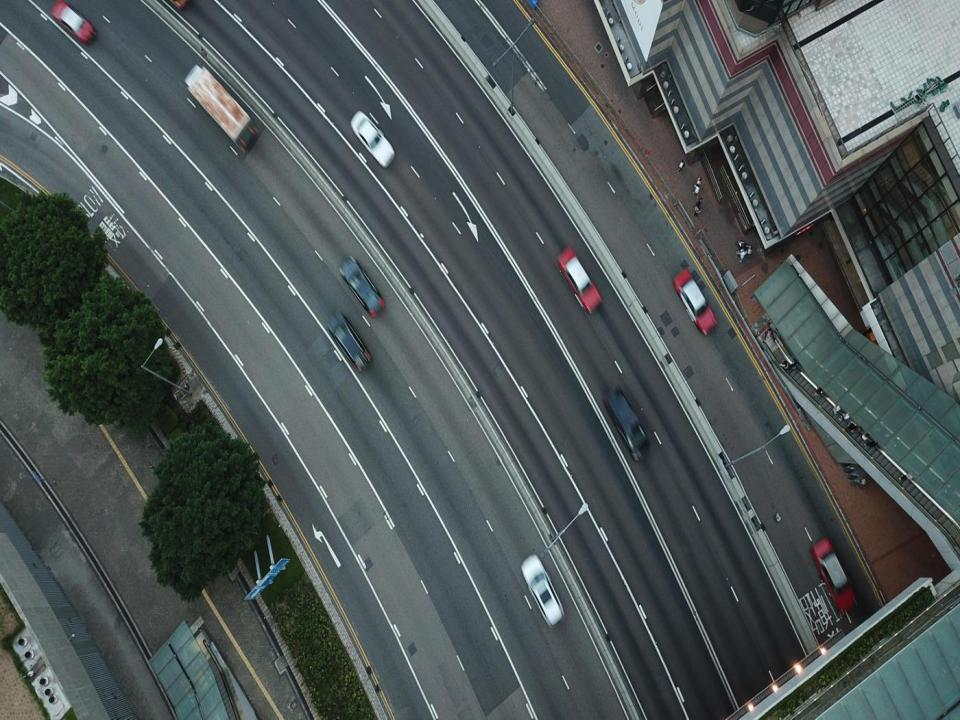car: (810, 538, 856, 614), (520, 552, 564, 628), (557, 245, 602, 315), (338, 256, 385, 319), (673, 270, 717, 336), (326, 310, 372, 373), (350, 109, 394, 167), (50, 0, 98, 41)
truck: (186, 63, 262, 154)
van: (603, 385, 653, 462)
